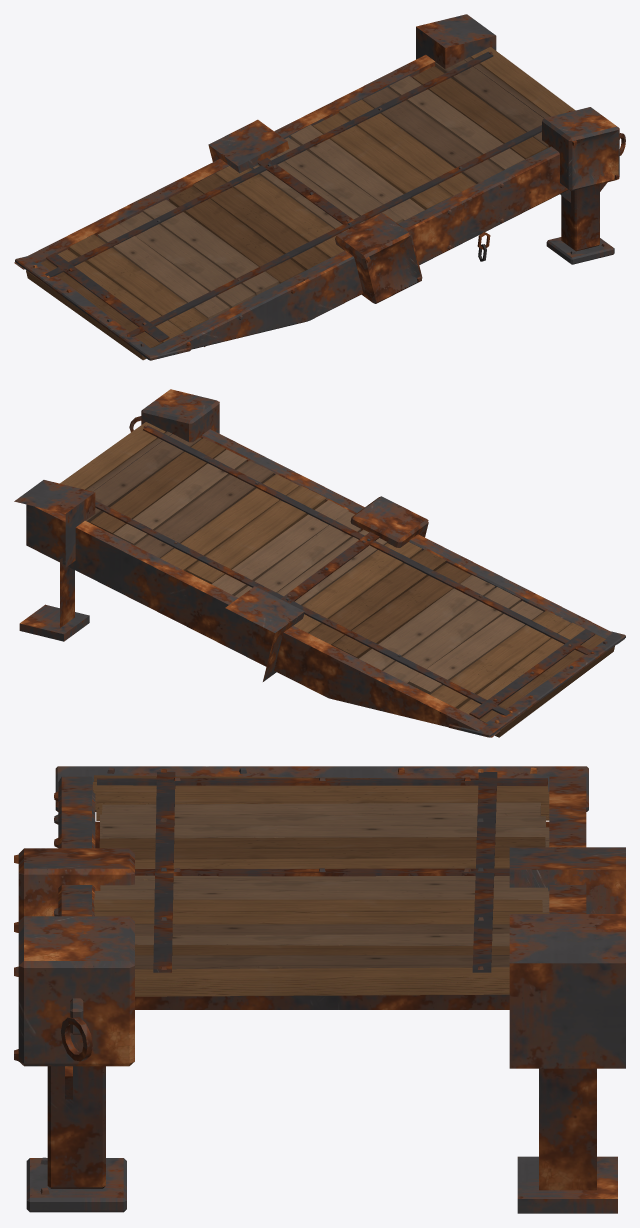
File: Slope_15.glb
3 views of the same model, one above another, from view 1: azimuth 30°, elevation 25°; view 2: azimuth 150°, elevation 25°; view 3: azimuth 270°, elevation 25° (orthographic). The views are drawn at different scales.
Visible parts, largest first — view 1: Slope_15; view 2: Slope_15; view 3: Slope_15.
Boxes of the visible parts, bbox=[...] form: Slope_15: bbox=[14, 14, 625, 360]; Slope_15: bbox=[14, 389, 625, 737]; Slope_15: bbox=[14, 766, 625, 1213].
Size of the model in its own units: 4.18 by 1.13 by 2.32.
4 materials, 4 textured.
